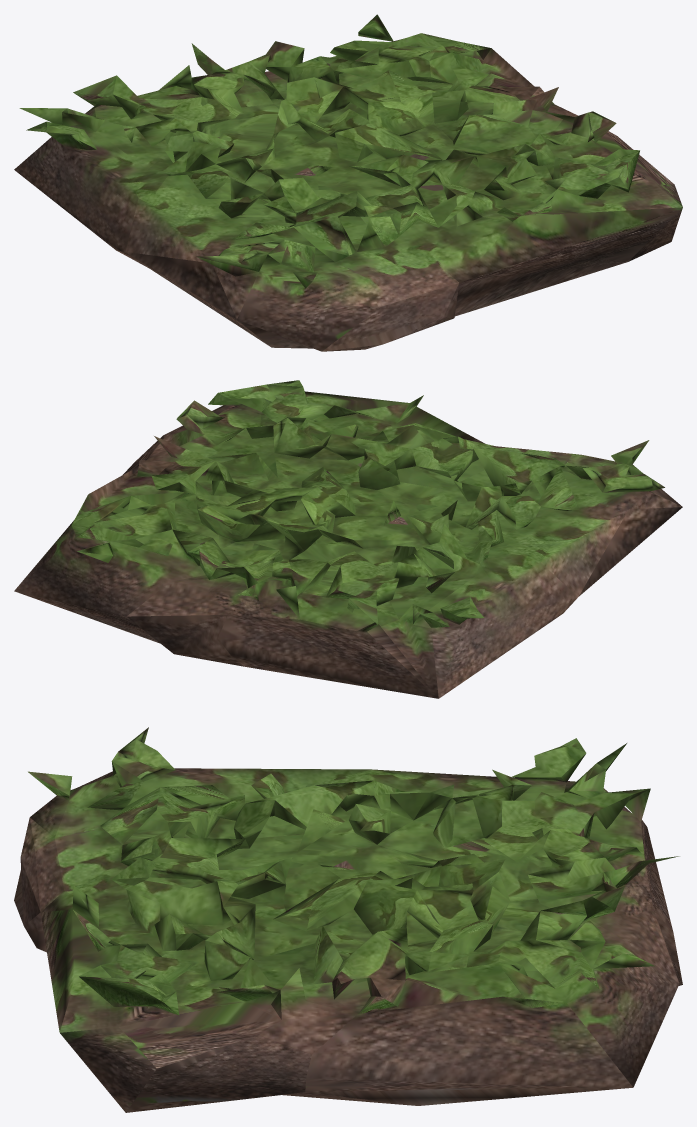
The model's file is CressPlot.glb.
The picture shows the model from 3 angles, top to bottom: view 1: azimuth 30°, elevation 25°; view 2: azimuth 150°, elevation 25°; view 3: azimuth 270°, elevation 25°; orthographic projection. The views are drawn at different scales.
Visible parts, largest first — view 1: CressPlot; view 2: CressPlot; view 3: CressPlot.
Boxes of the visible parts, x1,y1,x2,y2 form: CressPlot: (14, 14, 682, 351); CressPlot: (14, 380, 682, 698); CressPlot: (14, 727, 682, 1112).
Size of the model in its own units: 0.9662 by 0.2046 by 0.9623.
Materials: 1 (1 with a texture image).
